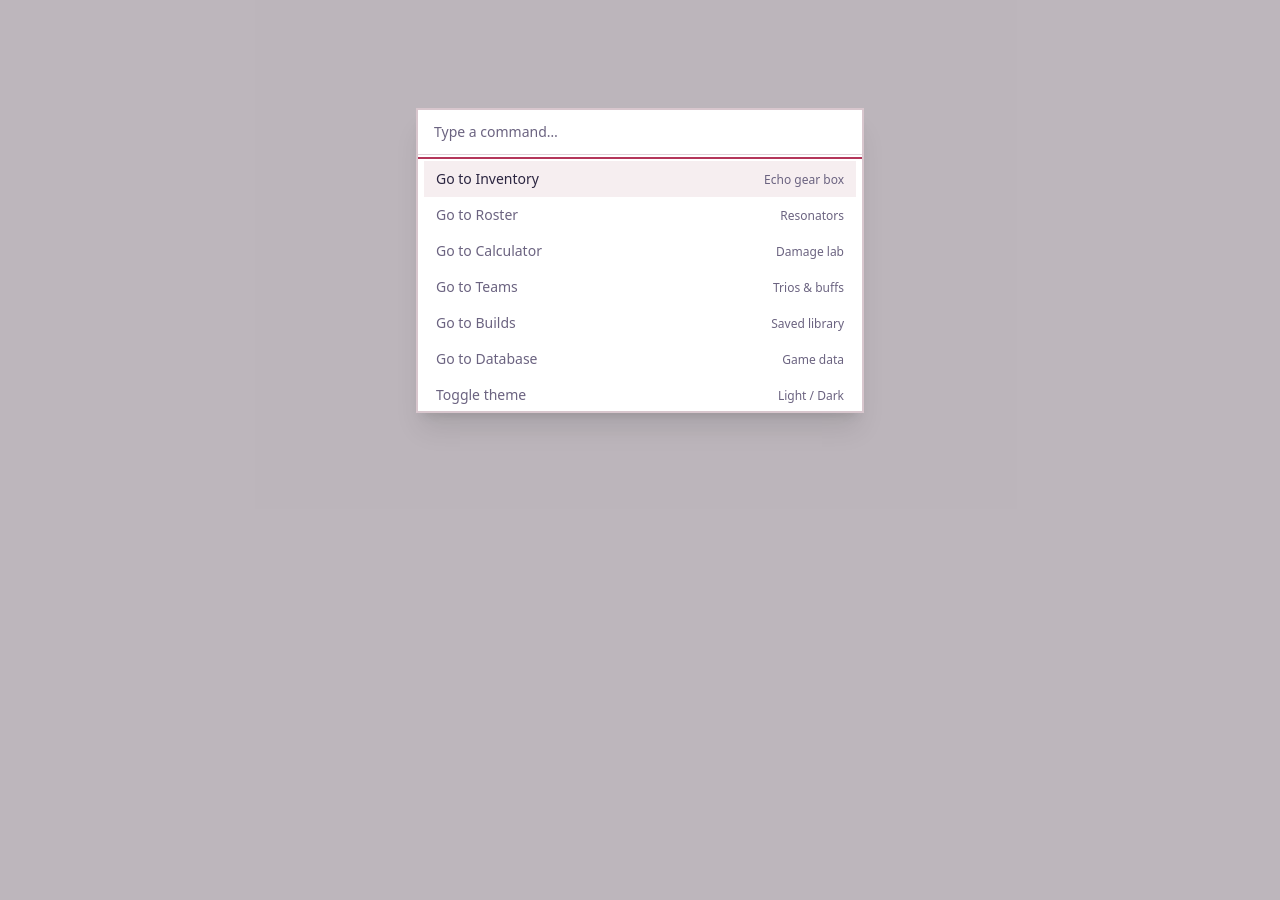
Scenario: CommandPalette › filters actions by query
The image size is (1280, 900).
Type "calc" into the dropdown at (640, 132), box [418, 110, 862, 155]
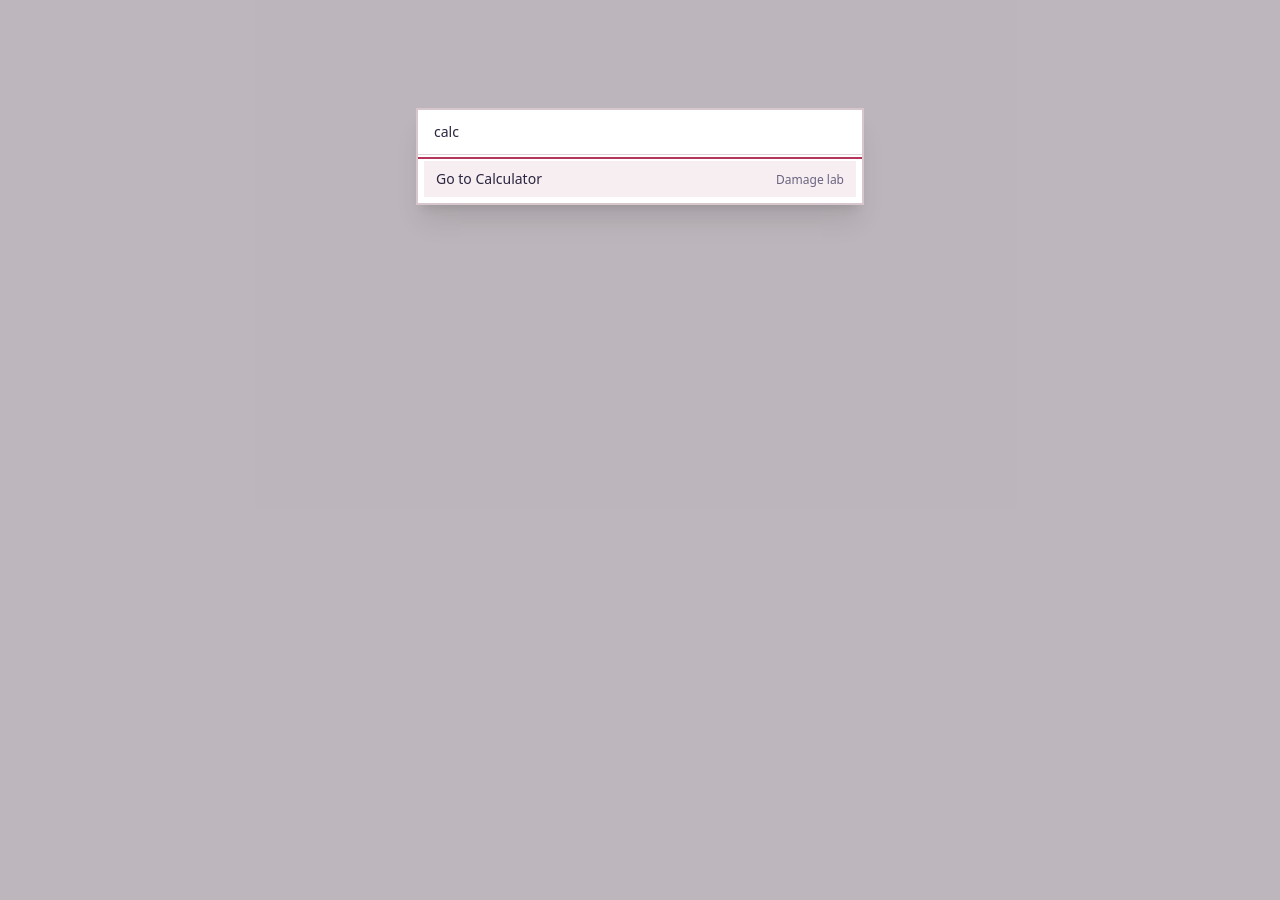
Expected: the option "Go to Calculator Damage lab" is shown, [424, 161, 856, 197]
Expected: the option "Go to Roster" is gone
